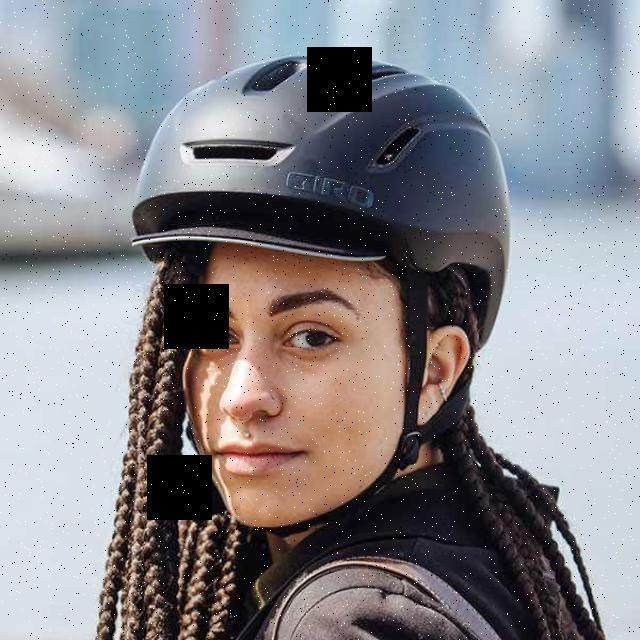helmet: (138, 52, 512, 542)
